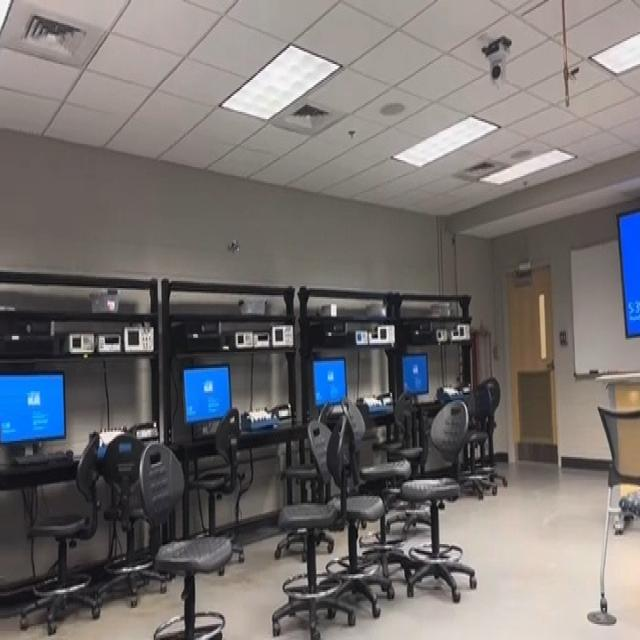drone: (217, 224, 246, 267)
